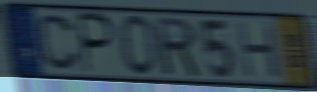5: (197, 18, 238, 81)
C: (34, 12, 82, 73)
H: (234, 20, 283, 80)
O: (117, 13, 160, 78)
P: (78, 10, 118, 77)
R: (153, 16, 204, 79)
